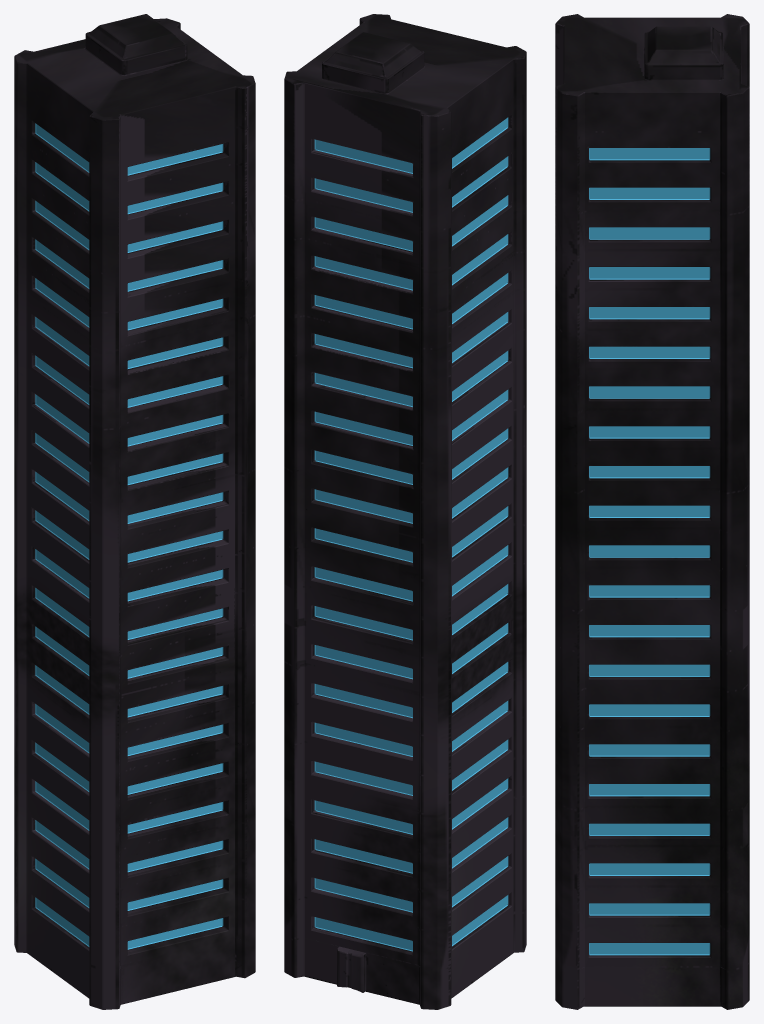
File: buildings2.fbx
The picture shows the model from 3 angles, left to right: view 1: azimuth 30°, elevation 25°; view 2: azimuth 150°, elevation 25°; view 3: azimuth 270°, elevation 25°; orthographic projection. The views are drawn at different scales.
Visible parts, largest first — view 1: 2; view 2: 2; view 3: 2.
Part boxes in pixels (bbox=[...]): 2: bbox=[14, 14, 255, 1009]; 2: bbox=[284, 14, 526, 1009]; 2: bbox=[555, 14, 749, 1009].
Size of the model in its own units: 1879 by 10027 by 1879.
2 materials, 1 textured.
